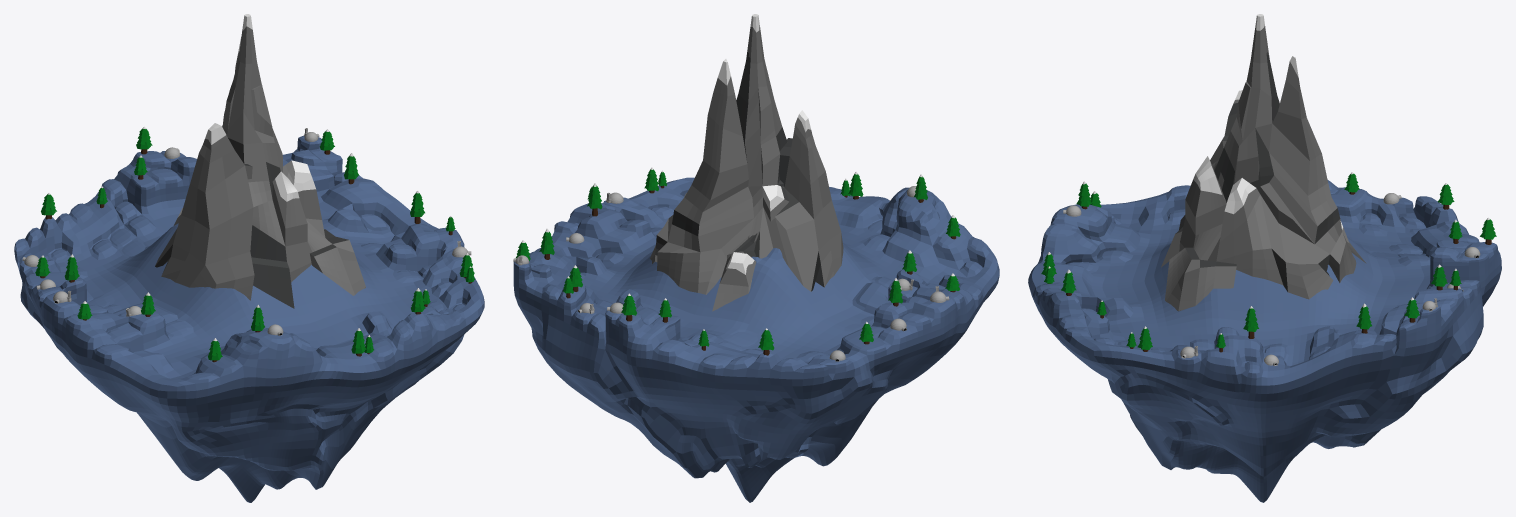
Rendered from CENARIO2.fbx.
The picture shows the model from 3 angles, left to right: view 1: azimuth 30°, elevation 25°; view 2: azimuth 150°, elevation 25°; view 3: azimuth 270°, elevation 25°; orthographic projection.
Visible parts, largest first — view 1: ilha, montanha; view 2: ilha, montanha; view 3: ilha, montanha.
Boxes of the visible parts, <box> form: ilha: <box>14,135,484,502</box>; montanha: <box>155,14,365,308</box>; ilha: <box>513,177,999,502</box>; montanha: <box>650,14,843,311</box>; ilha: <box>1028,180,1501,502</box>; montanha: <box>1161,14,1366,311</box>.
Bounding box in the file's own units: 24306 × 28336 × 25040.
